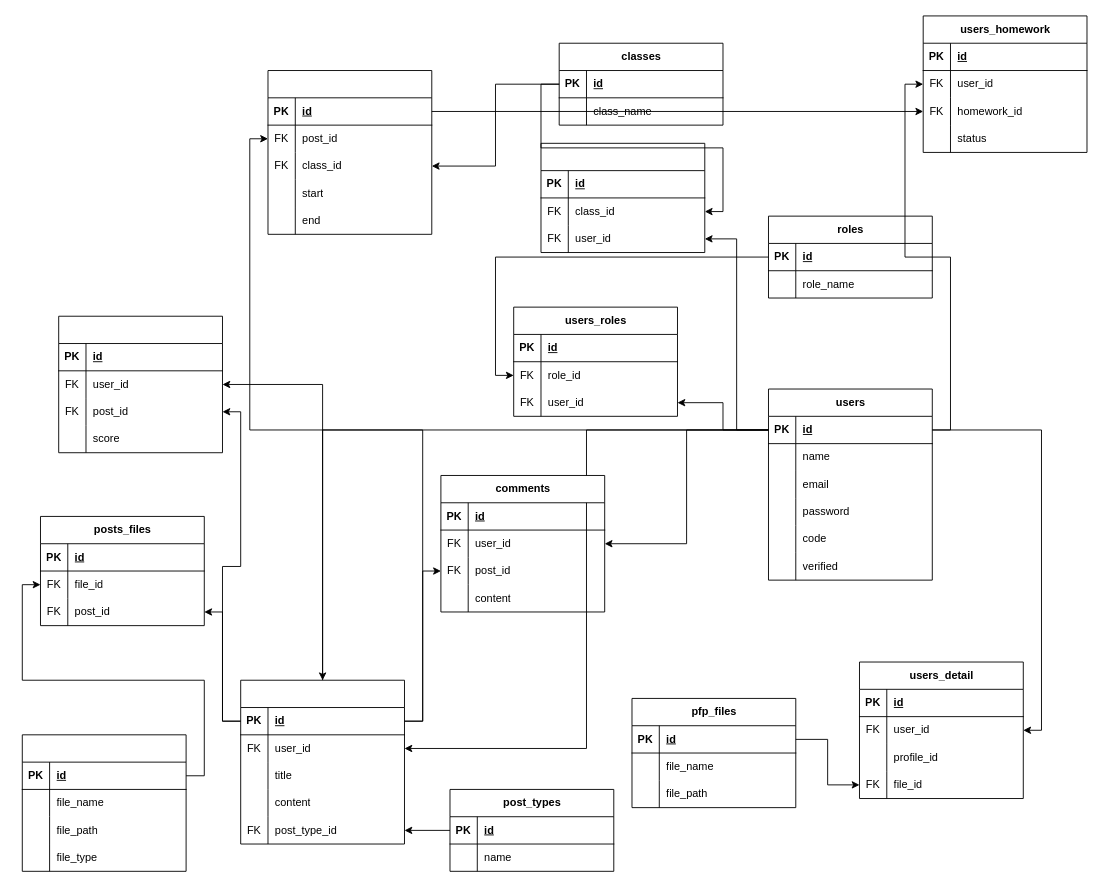
Some shapes in this 1103 by 887 pixel diagram are drawn without their labels. The box of each missing label's shape, as (x1, y1, x2, y2) in pixels:
files: (21, 734, 186, 871)
homework: (267, 70, 432, 234)
posts: (240, 679, 404, 844)
ratings: (58, 315, 222, 453)
users_classes: (540, 142, 705, 253)
